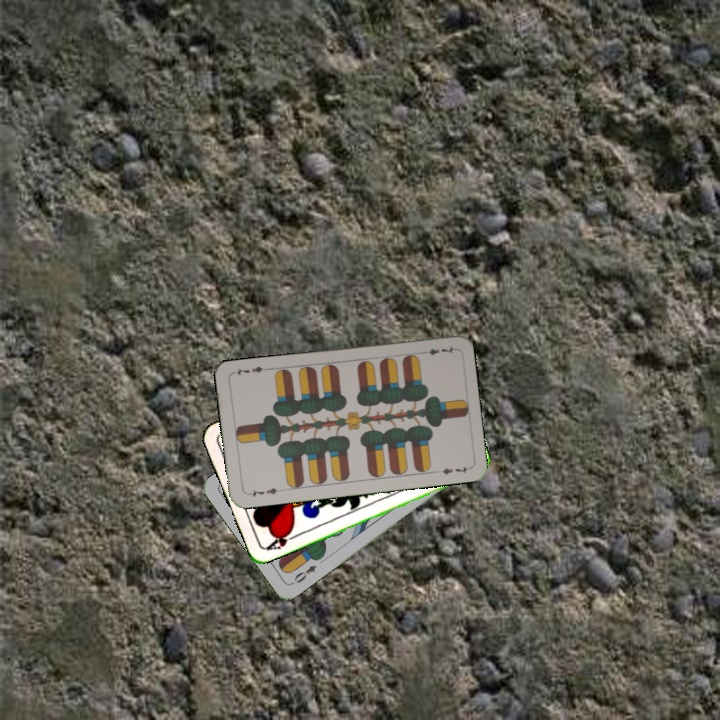E7: (243, 484, 284, 500), (417, 342, 457, 357)
EO: (290, 561, 319, 586)
HA: (262, 525, 301, 553)
